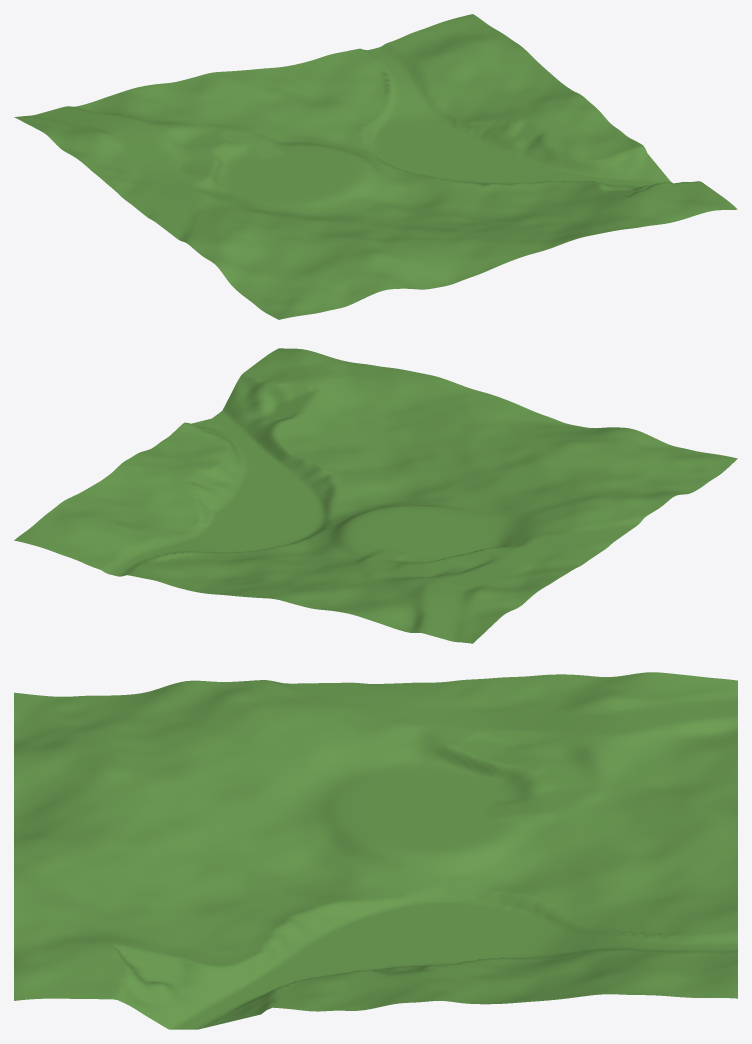
File: SM_Terrain_04_05.fbx
3 renders of one model, top to bottom at view 1: azimuth 30°, elevation 25°; view 2: azimuth 150°, elevation 25°; view 3: azimuth 270°, elevation 25°, orthographic. The views are drawn at different scales.
Visible parts, largest first — view 1: SM_Terrain_04_05; view 2: SM_Terrain_04_05; view 3: SM_Terrain_04_05.
Part boxes in pixels (bbox=[...]): SM_Terrain_04_05: bbox=[14, 14, 737, 319]; SM_Terrain_04_05: bbox=[14, 348, 737, 643]; SM_Terrain_04_05: bbox=[14, 672, 737, 1029].
Bounding box in the file's own units: 384 × 31.34 × 384.
